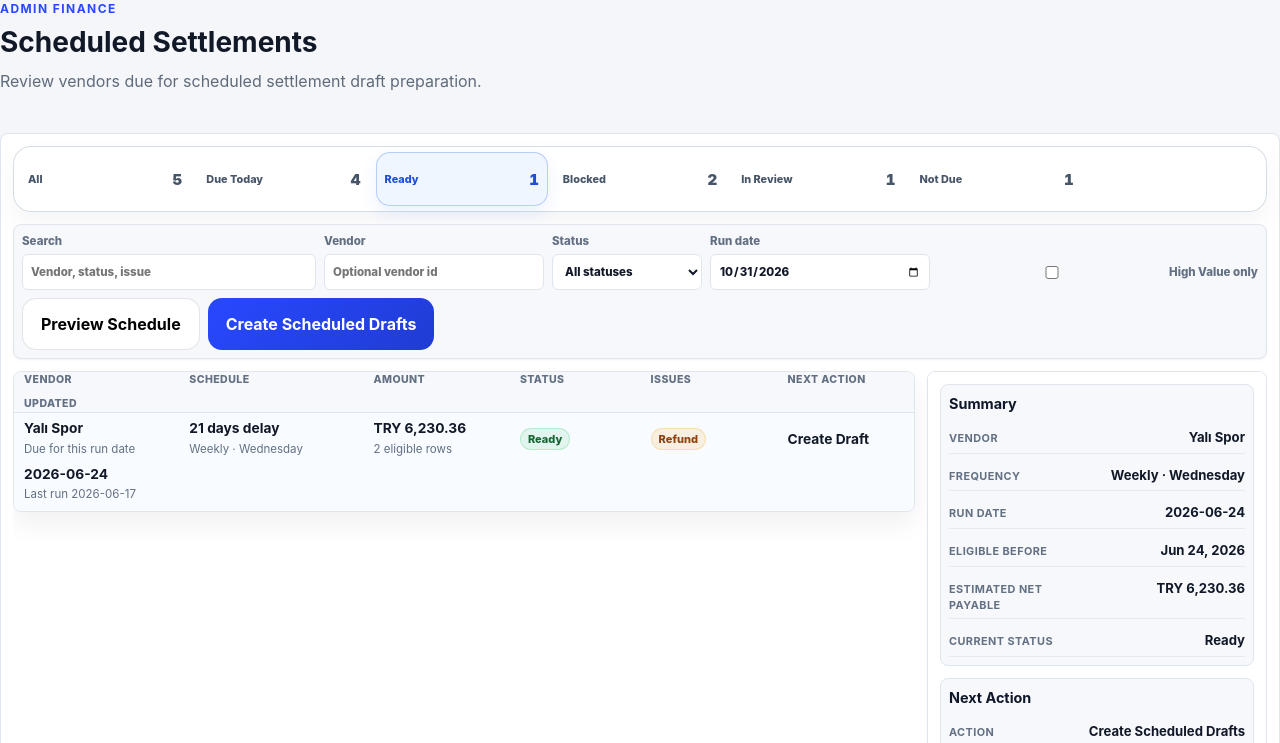
AdminScheduledSettlementsPage › shows state-based scheduled actions in the right panel
Click the button named "Not Due1" at (997, 179), box [910,152,1083,206]
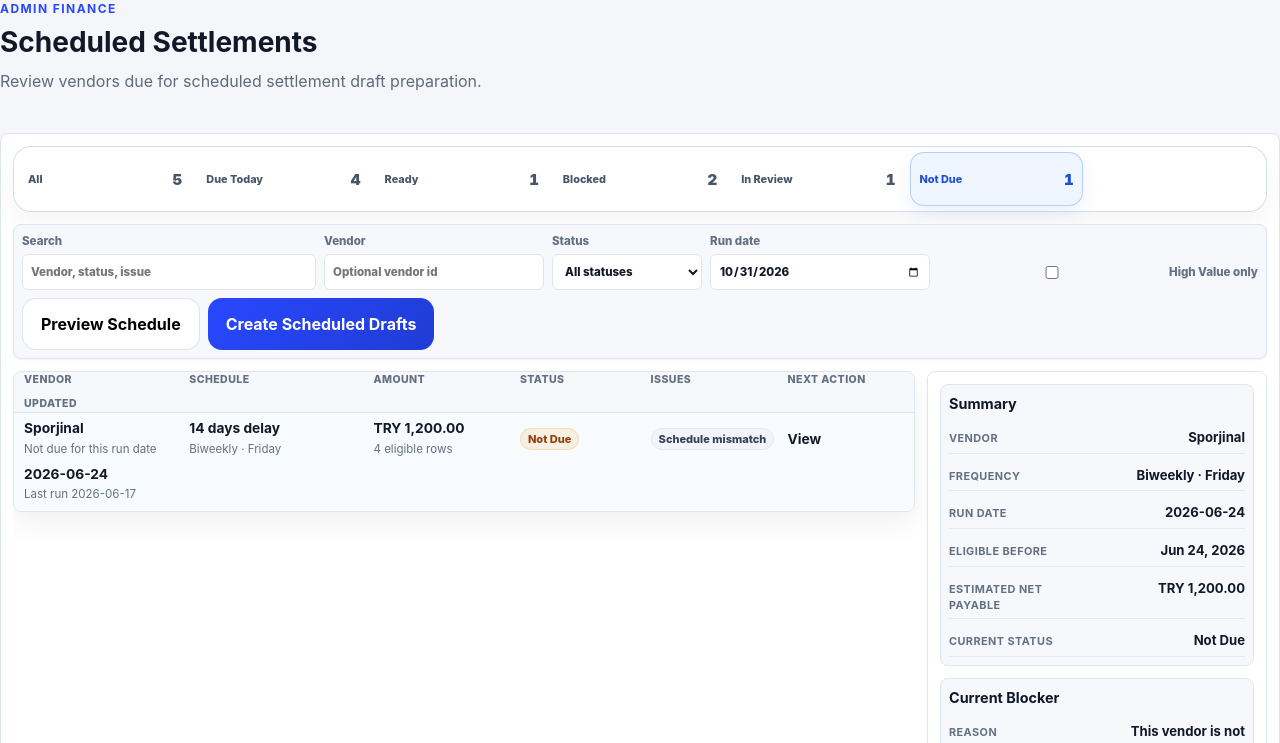
Click the button named "In Review1" at (818, 179), box [732,152,904,206]
(page scrolled)
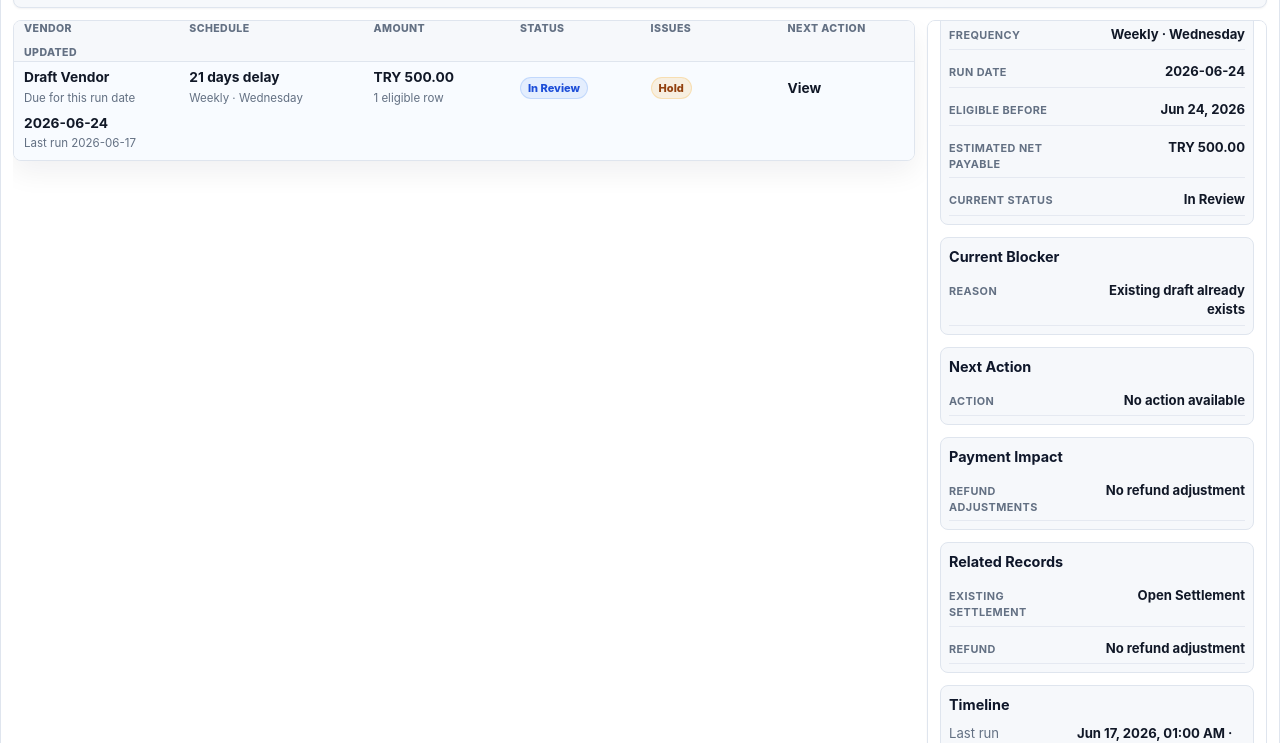
Check: the button "Create Scheduled Drafts" is not shown
Check: the text "No action available" is shown, box [1124,392,1245,408]
